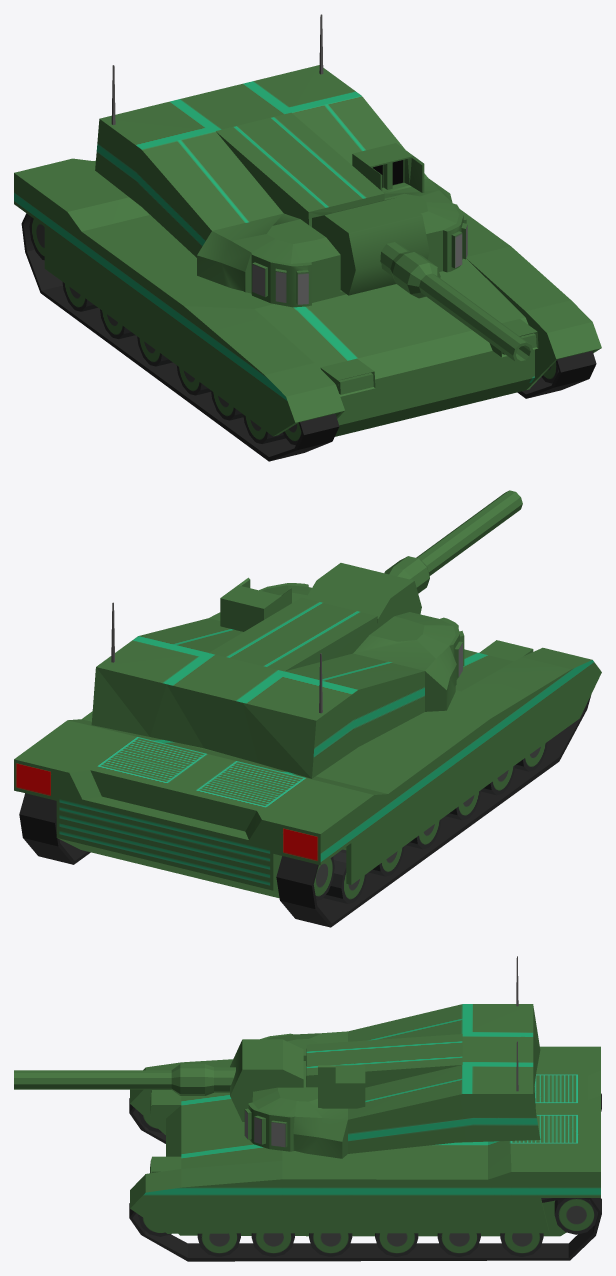
The model's file is Tank_01.fbx.
The picture shows the model from 3 angles, top to bottom: view 1: azimuth 30°, elevation 25°; view 2: azimuth 150°, elevation 25°; view 3: azimuth 270°, elevation 25°; orthographic projection. The views are drawn at different scales.
Visible parts, largest first — view 1: Tank_01_Body, Tank_01_UpperBody, Tank_01_MainGunBody, Tank_01_Chain02, Tank_01_MainGun, Tank_01_Chain; view 2: Tank_01_Body, Tank_01_UpperBody, Tank_01_Chain02, Tank_01_MainGunBody, Tank_01_MainGun, Tank_01_Chain, Tank_01_Wheel14, Tank_01_Wheel16; view 3: Tank_01_Body, Tank_01_UpperBody, Tank_01_Chain, Tank_01_MainGun, Tank_01_MainGunBody, Tank_01_Wheel15, Tank_01_Wheel11, Tank_01_Wheel09, Tank_01_Wheel05, Tank_01_Wheel13, Tank_01_Wheel07, Tank_01_Wheel03.
Boxes of the visible parts, box(x1,y1,x2,y2) form: Tank_01_Body: box(14, 158, 601, 436); Tank_01_UpperBody: box(95, 65, 467, 307); Tank_01_MainGunBody: box(312, 197, 429, 295); Tank_01_Chain02: box(21, 213, 339, 461); Tank_01_MainGun: box(380, 242, 533, 363); Tank_01_Chain: box(517, 351, 596, 398); Tank_01_Body: box(14, 640, 601, 898); Tank_01_UpperBody: box(91, 577, 464, 778); Tank_01_Chain02: box(276, 694, 591, 927); Tank_01_MainGunBody: box(306, 563, 421, 628); Tank_01_MainGun: box(384, 490, 522, 593); Tank_01_Chain: box(19, 793, 90, 864); Tank_01_Wheel14: box(323, 849, 366, 903); Tank_01_Wheel16: box(313, 857, 334, 900); Tank_01_Body: box(130, 1046, 600, 1236); Tank_01_UpperBody: box(244, 1004, 540, 1158); Tank_01_Chain: box(129, 1198, 601, 1261); Tank_01_MainGun: box(14, 1064, 235, 1095); Tank_01_MainGunBody: box(230, 1039, 303, 1121); Tank_01_Wheel15: box(554, 1198, 597, 1234); Tank_01_Wheel11: box(437, 1233, 480, 1256); Tank_01_Wheel09: box(375, 1233, 418, 1256); Tank_01_Wheel05: box(251, 1233, 294, 1256); Tank_01_Wheel13: box(500, 1233, 543, 1256); Tank_01_Wheel07: box(309, 1233, 352, 1256); Tank_01_Wheel03: box(197, 1233, 240, 1256).
Size of the model in its own units: 54.48 by 41.08 by 108.
